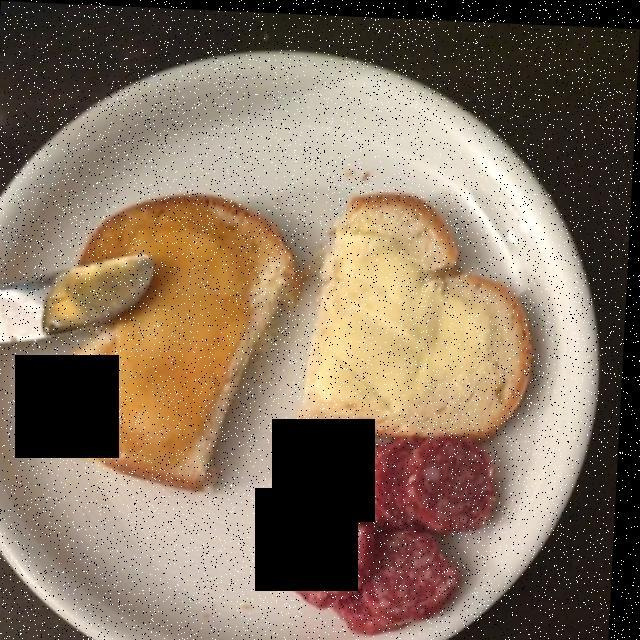bread: (47, 184, 530, 479)
butter: (324, 229, 511, 400)
honey: (30, 202, 255, 462)
salami: (298, 440, 495, 626)
